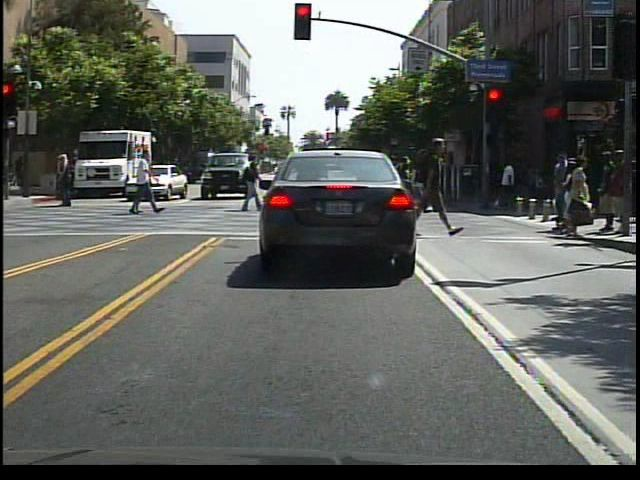person: (410, 129, 460, 239), (551, 154, 600, 245), (127, 150, 163, 225), (551, 153, 576, 225), (54, 151, 77, 213), (235, 156, 260, 213), (501, 155, 520, 220)
